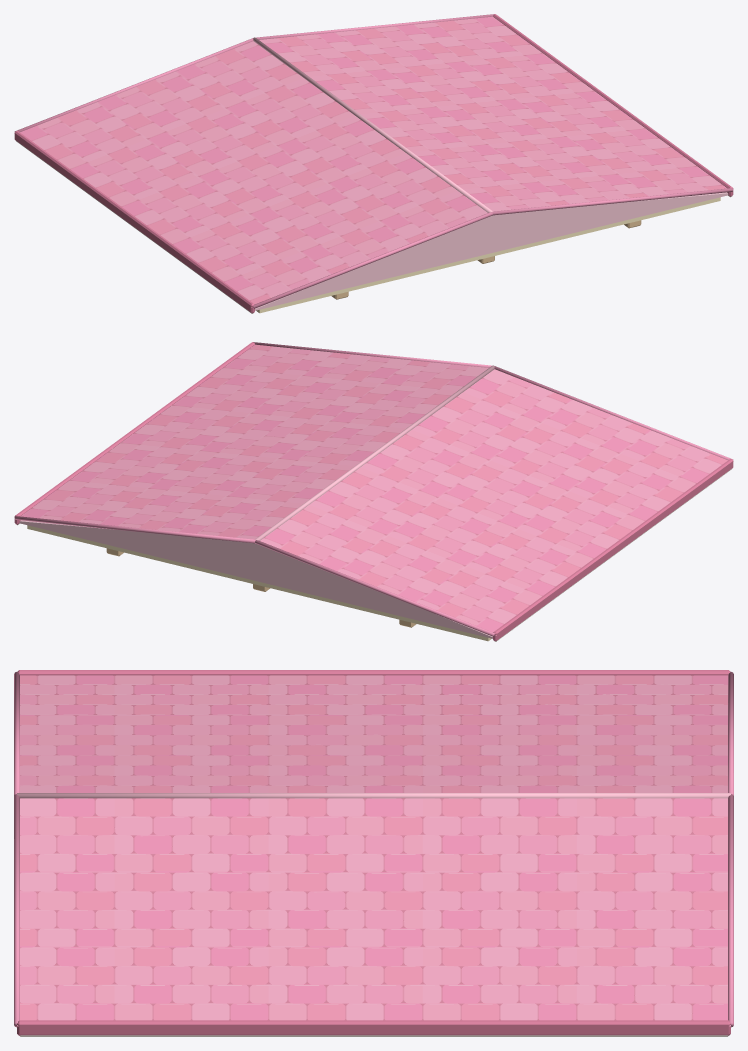
Rendered from ceiling.glb.
The picture shows the model from 3 angles, top to bottom: view 1: azimuth 30°, elevation 25°; view 2: azimuth 150°, elevation 25°; view 3: azimuth 270°, elevation 25°; orthographic projection. The views are drawn at different scales.
Visible parts, largest first — view 1: RoseTiles, RoofDeck, CeilingPanel; view 2: RoseTiles, RoofDeck, CeilingPanel; view 3: RoseTiles, RoofDeck.
Boxes of the visible parts, bbox=[...] form: RoseTiles: bbox=[14, 14, 733, 308]; RoofDeck: bbox=[14, 14, 733, 313]; CeilingPanel: bbox=[256, 197, 720, 313]; RoseTiles: bbox=[14, 342, 733, 636]; RoofDeck: bbox=[14, 342, 733, 641]; CeilingPanel: bbox=[27, 525, 491, 641]; RoseTiles: bbox=[14, 671, 733, 1027]; RoofDeck: bbox=[17, 670, 730, 1036].
Size of the model in its own units: 8.58 by 1.08 by 7.38.
9 materials, 9 textured.
